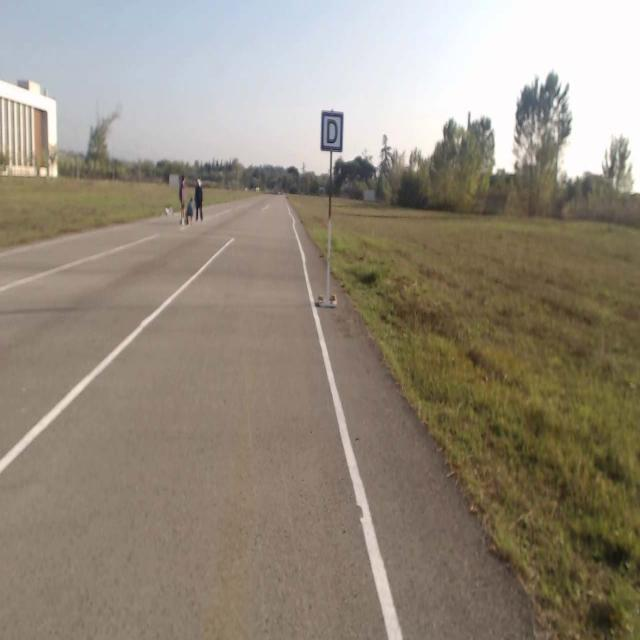durak: (322, 111, 341, 151)
